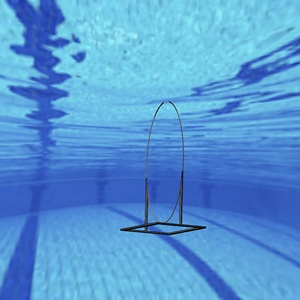circle: (118, 99, 207, 235)
